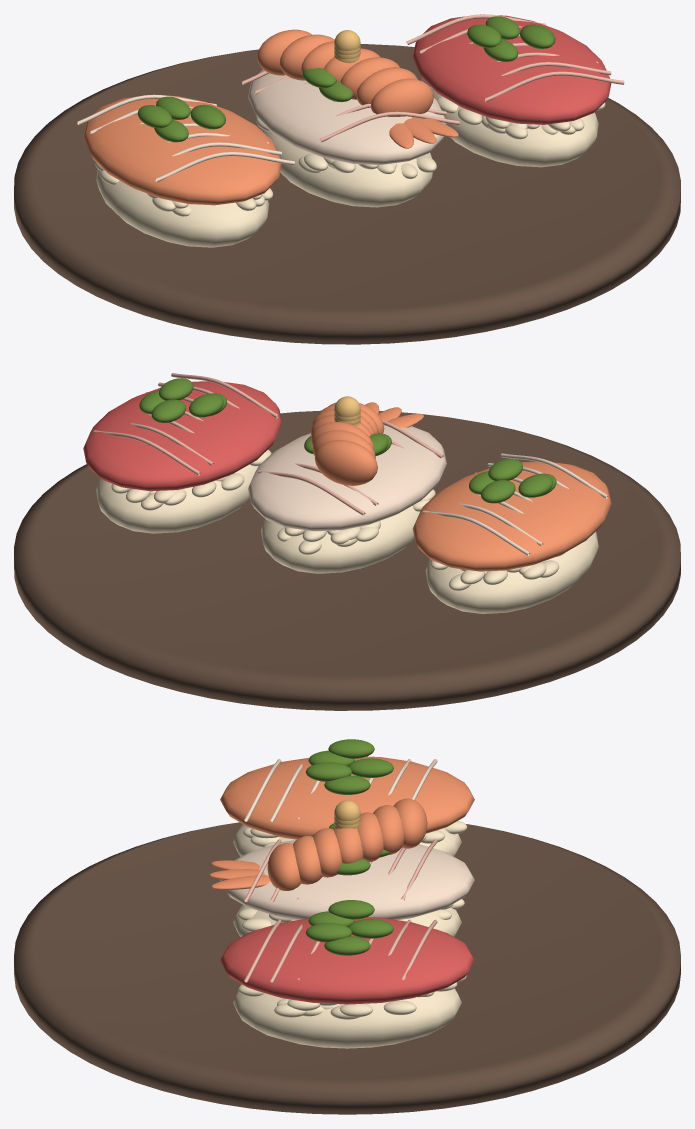
File: 59-premium-sushi.glb
3 renders of one model, top to bottom at view 1: azimuth 30°, elevation 25°; view 2: azimuth 150°, elevation 25°; view 3: azimuth 270°, elevation 25°, orthographic.
Visible parts, largest first — view 1: 제철 프리미엄 초밥 3종; view 2: 제철 프리미엄 초밥 3종; view 3: 제철 프리미엄 초밥 3종.
Boxes of the visible parts, x1,y1,x2,y2 form: 제철 프리미엄 초밥 3종: (14,14,680,344); 제철 프리미엄 초밥 3종: (14,373,680,710); 제철 프리미엄 초밥 3종: (14,739,680,1114).
Size of the model in its own units: 2 by 0.63 by 2.
